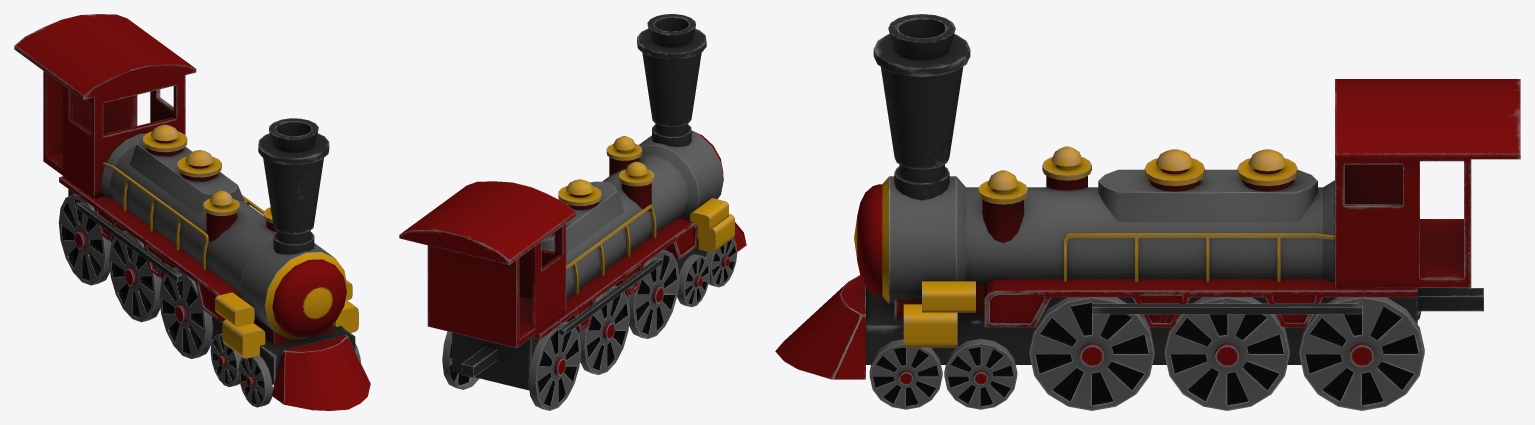
Rendered from Train_Prop.fbx.
3 renders of one model, left to right at view 1: azimuth 30°, elevation 25°; view 2: azimuth 150°, elevation 25°; view 3: azimuth 270°, elevation 25°, orthographic. The views are drawn at different scales.
Parts seen in each view (by area): view 1: Broken_train; view 2: Broken_train; view 3: Broken_train.
Part boxes in pixels (x1,y1,x2,y2): Broken_train: (14,14,370,410); Broken_train: (399,14,746,410); Broken_train: (775,14,1520,410).
Bounding box in the file's own units: 43.47 × 92.53 × 178.
1 material, 1 textured.
